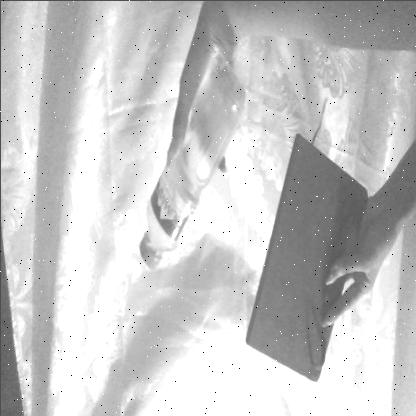Plastic Bottle: (134, 51, 239, 291)
